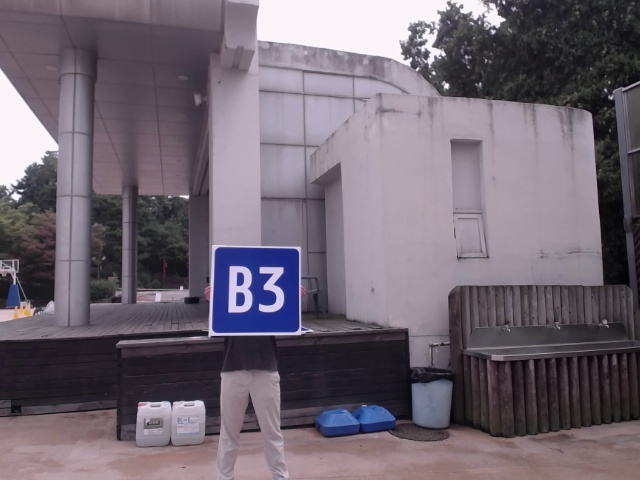delivery_b3: (213, 246, 300, 333)
